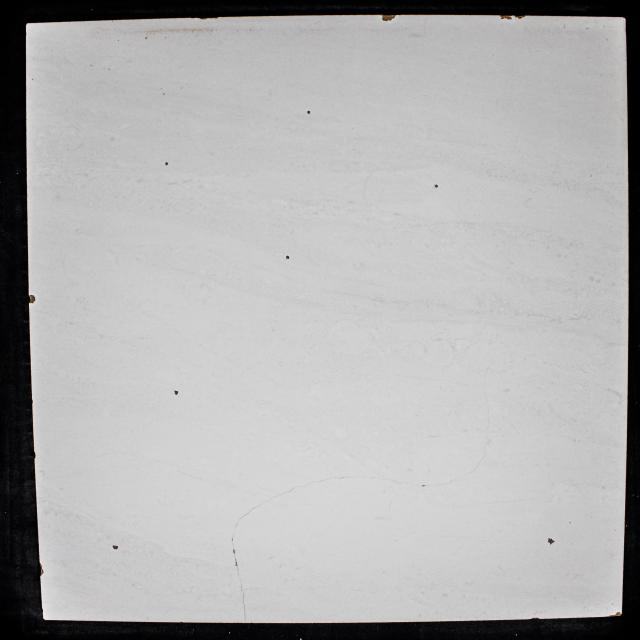edge-chipping: (380, 14, 398, 22), (190, 17, 219, 20), (28, 294, 36, 304), (498, 15, 513, 20), (514, 15, 526, 20), (40, 563, 44, 576), (615, 612, 621, 616), (531, 617, 540, 619), (609, 614, 615, 617)
hole: (547, 537, 556, 545), (112, 545, 119, 550), (174, 390, 179, 396), (285, 255, 290, 260), (307, 110, 311, 115), (164, 162, 169, 166), (234, 561, 238, 566), (232, 548, 235, 554), (434, 184, 438, 188), (421, 484, 426, 487)
line: (258, 477, 337, 506), (232, 506, 256, 538), (468, 444, 487, 476), (339, 476, 405, 484), (238, 567, 246, 622), (429, 477, 464, 486)
